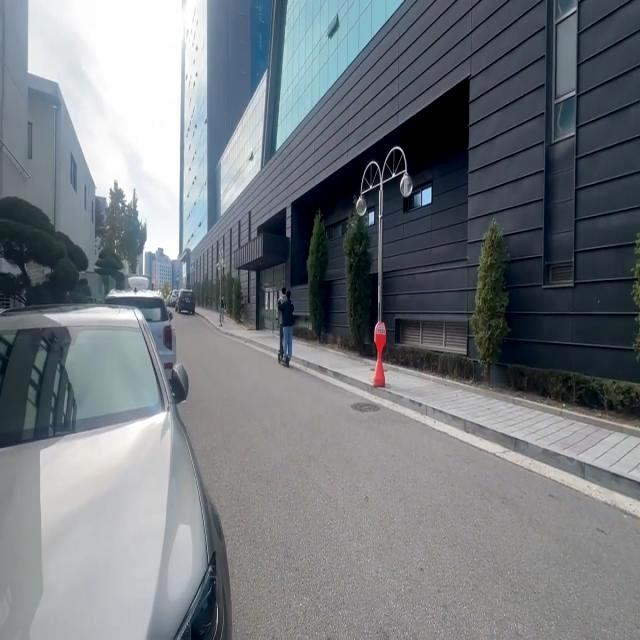bare_head: (278, 287, 286, 300), (284, 289, 292, 302)
human: (281, 289, 295, 365), (277, 287, 285, 360)
kickboard: (274, 349, 293, 367)
